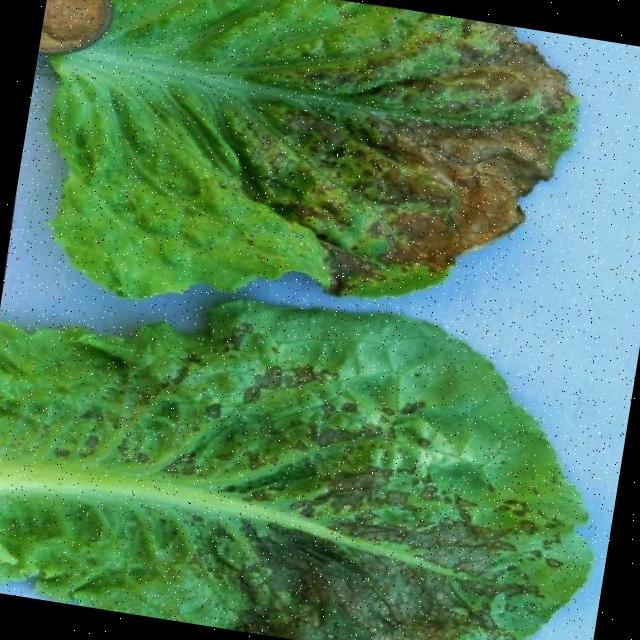Bacterial: (27, 329, 521, 640), (160, 0, 483, 267)
